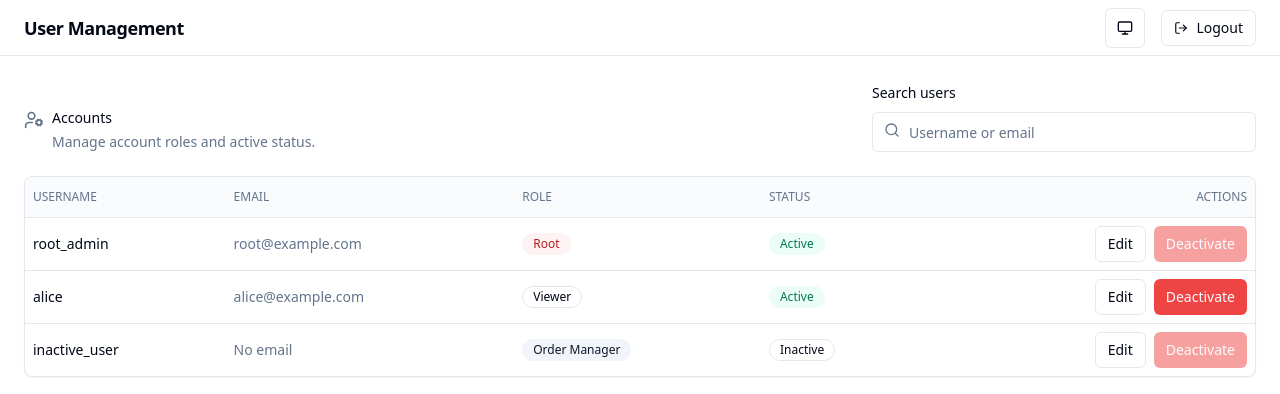
AdminUsersPage self-action guard › leaves other rows fully editable when the current user is root_admin (regression)
Expected: the text "alice" is shown, [33,286,63,306]
Expected: the button "Deactivate" in the row of "alice@example.com" is enabled, [1154,278,1247,314]
Open edit and confirm role + active controls are enabled.
Click the button "Edit" in the row of "alice@example.com".
click(1120, 296)  # box [1095,278,1146,314]
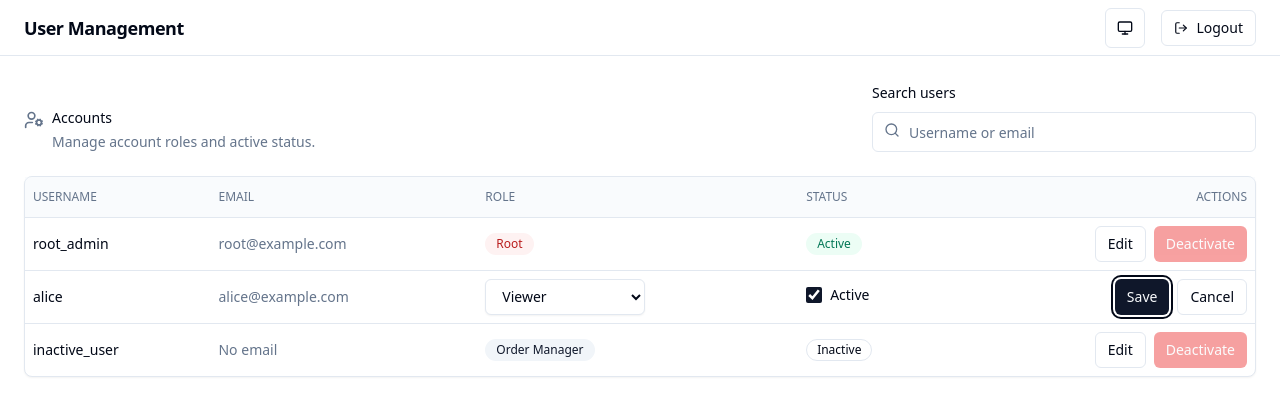
Expected: the dropdown named "role for alice" is enabled, [485,278,645,314]
Expected: the checkbox labelled "Active" is enabled, [806,287,822,303]
